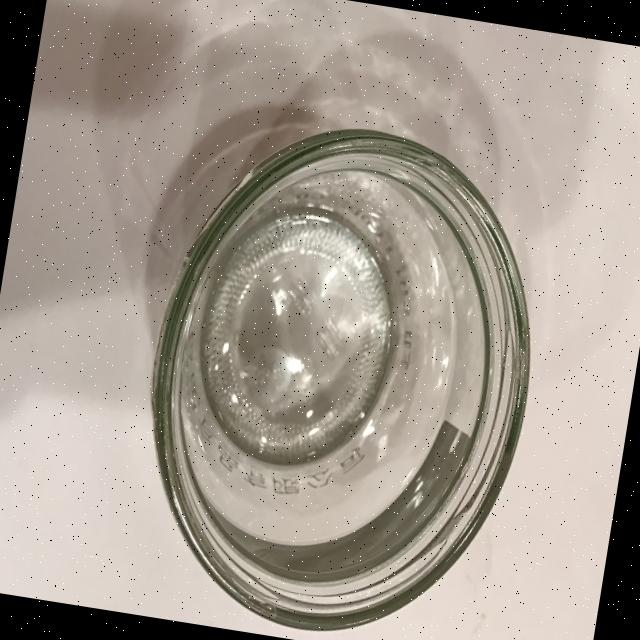glass: (114, 99, 565, 640)
